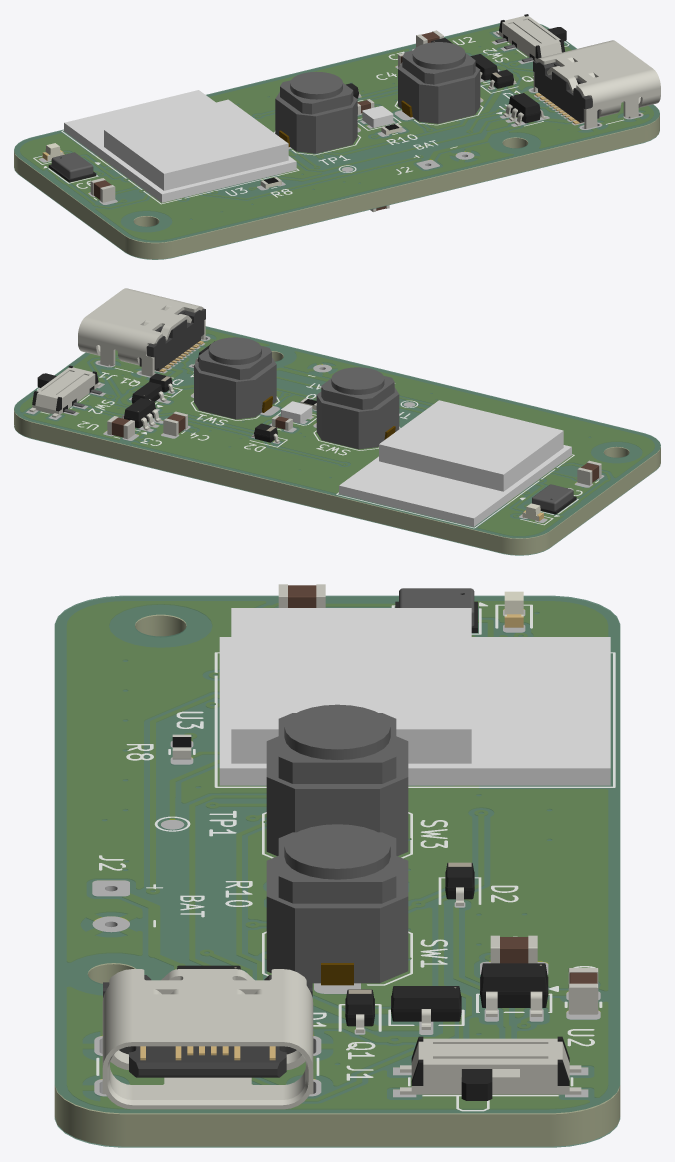
Rendered from board.glb.
3 renders of one model, top to bottom at view 1: azimuth 30°, elevation 25°; view 2: azimuth 150°, elevation 25°; view 3: azimuth 270°, elevation 25°, orthographic. The views are drawn at different scales.
Visible parts, largest first — view 1: =>[0:1:1:36]_1c3fd7, =>[0:1:1:31]_b4456a, =>[0:1:1:38]_3247ca, =>[0:1:1:38]_37e2fb, =>[0:1:1:14]_24864b, =>[0:1:1:14]_9dad21, =>[0:1:1:14]_f2efd9, =>[0:1:1:38]_d5790f, =>[0:1:1:18]_d198d5, Body_1_1c6215, Body_c33fbc, =>[0:1:1:18]_2738e0 (+23 smaller); view 2: =>[0:1:1:36]_1c3fd7, =>[0:1:1:31]_b4456a, =>[0:1:1:38]_fd41c6, =>[0:1:1:14]_24864b, =>[0:1:1:38]_3247ca, =>[0:1:1:14]_9dad21, =>[0:1:1:14]_6b4d45, =>[0:1:1:38]_d5790f, =>[0:1:1:18]_2d3cef, Body_1_04c03a, Body_8b9bc5, =>[0:1:1:18]_a5640e (+19 smaller); view 3: =>[0:1:1:36]_1c3fd7, =>[0:1:1:31]_b4456a, =>[0:1:1:38]_3247ca, =>[0:1:1:14]_24864b, =>[0:1:1:14]_9dad21, =>[0:1:1:38]_36fcb7, Body_1_445a25, =>[0:1:1:18]_2738e0, =>[0:1:1:18]_a5640e, =>[0:1:1:14]_532f42, =>[0:1:1:18], Body_1_a8dced (+39 smaller).
Boxes of the visible parts, x1,y1,x2,y2 form: =>[0:1:1:36]_1c3fd7: (14, 23, 659, 242); =>[0:1:1:31]_b4456a: (20, 27, 653, 239); =>[0:1:1:38]_3247ca: (14, 24, 659, 243); =>[0:1:1:38]_37e2fb: (173, 127, 642, 257); =>[0:1:1:14]_24864b: (104, 99, 288, 173); =>[0:1:1:14]_9dad21: (64, 90, 296, 194); =>[0:1:1:14]_f2efd9: (164, 143, 288, 190); =>[0:1:1:38]_d5790f: (18, 158, 124, 251); =>[0:1:1:18]_d198d5: (579, 69, 660, 104); Body_1_1c6215: (438, 77, 474, 123); Body_c33fbc: (316, 107, 352, 153); =>[0:1:1:18]_2738e0: (560, 55, 652, 86); =>[0:1:1:36]_1c3fd7: (14, 326, 660, 538); =>[0:1:1:31]_b4456a: (20, 330, 654, 535); =>[0:1:1:38]_fd41c6: (31, 422, 501, 552); =>[0:1:1:14]_24864b: (379, 400, 563, 474); =>[0:1:1:38]_3247ca: (14, 327, 660, 538); =>[0:1:1:14]_9dad21: (339, 445, 571, 518); =>[0:1:1:14]_6b4d45: (379, 444, 503, 491); =>[0:1:1:38]_d5790f: (550, 454, 656, 547); =>[0:1:1:18]_2d3cef: (78, 317, 159, 352); Body_1_04c03a: (199, 373, 235, 419); Body_8b9bc5: (322, 403, 358, 449); =>[0:1:1:18]_a5640e: (86, 303, 178, 334); =>[0:1:1:36]_1c3fd7: (54, 595, 620, 1113); =>[0:1:1:31]_b4456a: (67, 601, 607, 1107); =>[0:1:1:38]_3247ca: (55, 597, 619, 1114); =>[0:1:1:14]_24864b: (231, 608, 471, 729); =>[0:1:1:14]_9dad21: (219, 637, 610, 768); =>[0:1:1:38]_36fcb7: (125, 1114, 549, 1146); Body_1_445a25: (295, 908, 379, 983); =>[0:1:1:18]_2738e0: (132, 969, 207, 1041); =>[0:1:1:18]_a5640e: (208, 969, 282, 1041); =>[0:1:1:14]_532f42: (219, 768, 610, 785); =>[0:1:1:18]: (103, 969, 286, 1099); Body_1_a8dced: (284, 824, 390, 868).
Size of the model in its own units: 0.052 by 0.00748 by 0.024.
